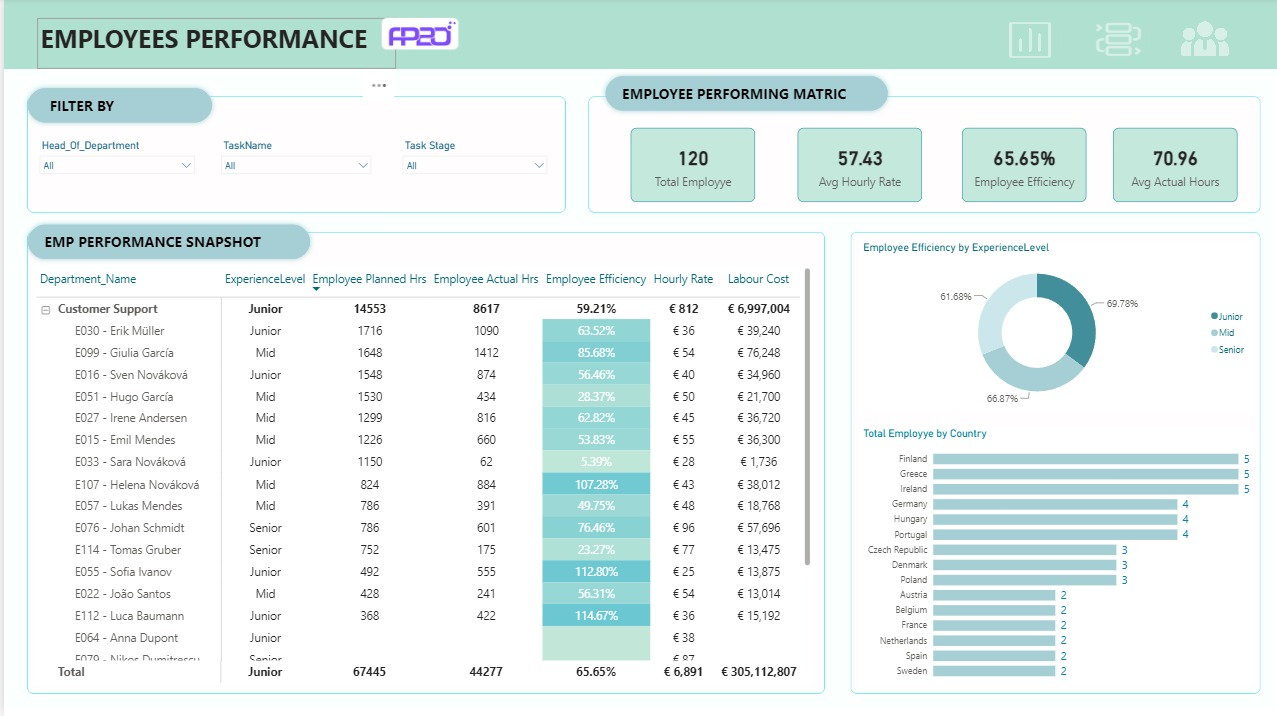

The page's visual inventory and layout, read from the dashboard file:
{"tool":"powerbi","page":{"name":"Employees Performance","canvas":[1920,1080],"ordinal":2},"visuals":[{"type":"shape","box":[897.4,109.7,440.7,67.8],"z":0,"group":"g1"},{"type":"shape","box":[27.9,333,440.7,67.8],"z":0,"group":"g2"},{"type":"pivotTable","fields":{"Rows":["Departments.Department_Name","Employees.EmpID-Name"],"Values":["Min(Employees.ExperienceLevel)","_KPIs MeasureTable.Employee Planned Hrs","_KPIs MeasureTable.Employee Actual Hrs","_KPIs MeasureTable.Employee Efficiency","_KPIs MeasureTable.Hourly Rate","_KPIs MeasureTable.Labour Cost"]},"box":[43.9,400.8,1174.6,634.1],"z":0},{"type":"textbox","box":[925.3,123.7,412.8,37.9],"z":1000,"group":"g1"},{"type":"textbox","box":[55.8,347,412.8,37.9],"z":1000,"group":"g2"},{"type":"donutChart","fields":{"Category":["Employees.ExperienceLevel"],"Y":["_KPIs MeasureTable.Employee Efficiency"]},"box":[1288.2,366.9,592.3,255.3],"z":1000},{"type":"clusteredBarChart","fields":{"Category":["Country.Country","Country.City"],"Y":["_KPIs MeasureTable.Total Employye"]},"box":[1288.9,645.6,591.4,388.8],"z":2000},{"type":"card","fields":{"Values":["_KPIs MeasureTable.Total Employye"]},"box":[943.2,195.4,187.5,111.7],"z":3000},{"type":"card","fields":{"Values":["_KPIs MeasureTable.Avg Hourly Rate"]},"box":[1194.5,195.4,187.5,111.7],"z":4000},{"type":"card","fields":{"Values":["_KPIs MeasureTable.Employee Efficiency"]},"box":[1441.8,195.4,187.5,111.7],"z":5000},{"type":"card","fields":{"Values":["Avg(Tasks.ActualHours)"]},"box":[1669.1,195.4,187.5,111.7],"z":6000},{"type":"slicer","fields":{"Values":["Departments.Head_Of_Department"]},"box":[43.9,213.4,253.3,75.8],"z":7000},{"type":"slicer","fields":{"Values":["Tasks.TaskName 1"]},"box":[317.3,214.3,245.8,75.6],"z":8000},{"type":"slicer","fields":{"Values":["Tasks.Task Stage"]},"box":[590.4,214.3,237.4,75.6],"z":9000},{"type":"textbox","box":[49.9,29.9,540.4,75.8],"z":10000},{"type":"image","box":[562.4,29.9,127.6,47.9],"z":11000},{"type":"shape","box":[27.9,127.6,293.1,67.8],"z":12000},{"type":"textbox","box":[63.8,141.6,129.6,53.8],"z":13000},{"type":"group","id":"g1","title":"Group 1","box":[897.4,109.7,440.7,67.8],"z":14000},{"type":"group","id":"g2","title":"Group 1","box":[27.9,333,440.7,67.8],"z":15000},{"type":"actionButton","box":[1502.5,32.5,85,62.5],"z":16000},{"type":"actionButton","box":[1635,30,85,65],"z":17000},{"type":"actionButton","box":[1765,30,85,62.5],"z":18000}]}

Visuals, with their boxes in screenshot pixels (x1, y1, x2, y2), scaled from the page's 1920x1080 canvas onto the 1277x716 screenshot:
shape: bbox=(597, 73, 890, 118)
shape: bbox=(19, 221, 312, 266)
pivotTable - Departments.Department_Name x Employees.EmpID-Name: bbox=(29, 266, 810, 686)
textbox: bbox=(615, 82, 890, 107)
textbox: bbox=(37, 230, 312, 255)
donutChart - Employees.ExperienceLevel x _KPIs MeasureTable.Employee Efficiency: bbox=(857, 243, 1251, 412)
clusteredBarChart - Country.Country x Country.City: bbox=(857, 428, 1251, 686)
card - _KPIs MeasureTable.Total Employye: bbox=(627, 130, 752, 204)
card - _KPIs MeasureTable.Avg Hourly Rate: bbox=(794, 130, 919, 204)
card - _KPIs MeasureTable.Employee Efficiency: bbox=(959, 130, 1084, 204)
card - Avg(Tasks.ActualHours): bbox=(1110, 130, 1235, 204)
slicer - Departments.Head_Of_Department: bbox=(29, 141, 198, 192)
slicer - Tasks.TaskName 1: bbox=(211, 142, 375, 192)
slicer - Tasks.Task Stage: bbox=(393, 142, 551, 192)
textbox: bbox=(33, 20, 393, 70)
image: bbox=(374, 20, 459, 52)
shape: bbox=(19, 85, 213, 130)
textbox: bbox=(42, 94, 129, 130)
"Group 1" group: bbox=(597, 73, 890, 118)
"Group 1" group: bbox=(19, 221, 312, 266)
actionButton: bbox=(999, 22, 1056, 63)
actionButton: bbox=(1087, 20, 1144, 63)
actionButton: bbox=(1174, 20, 1230, 61)
